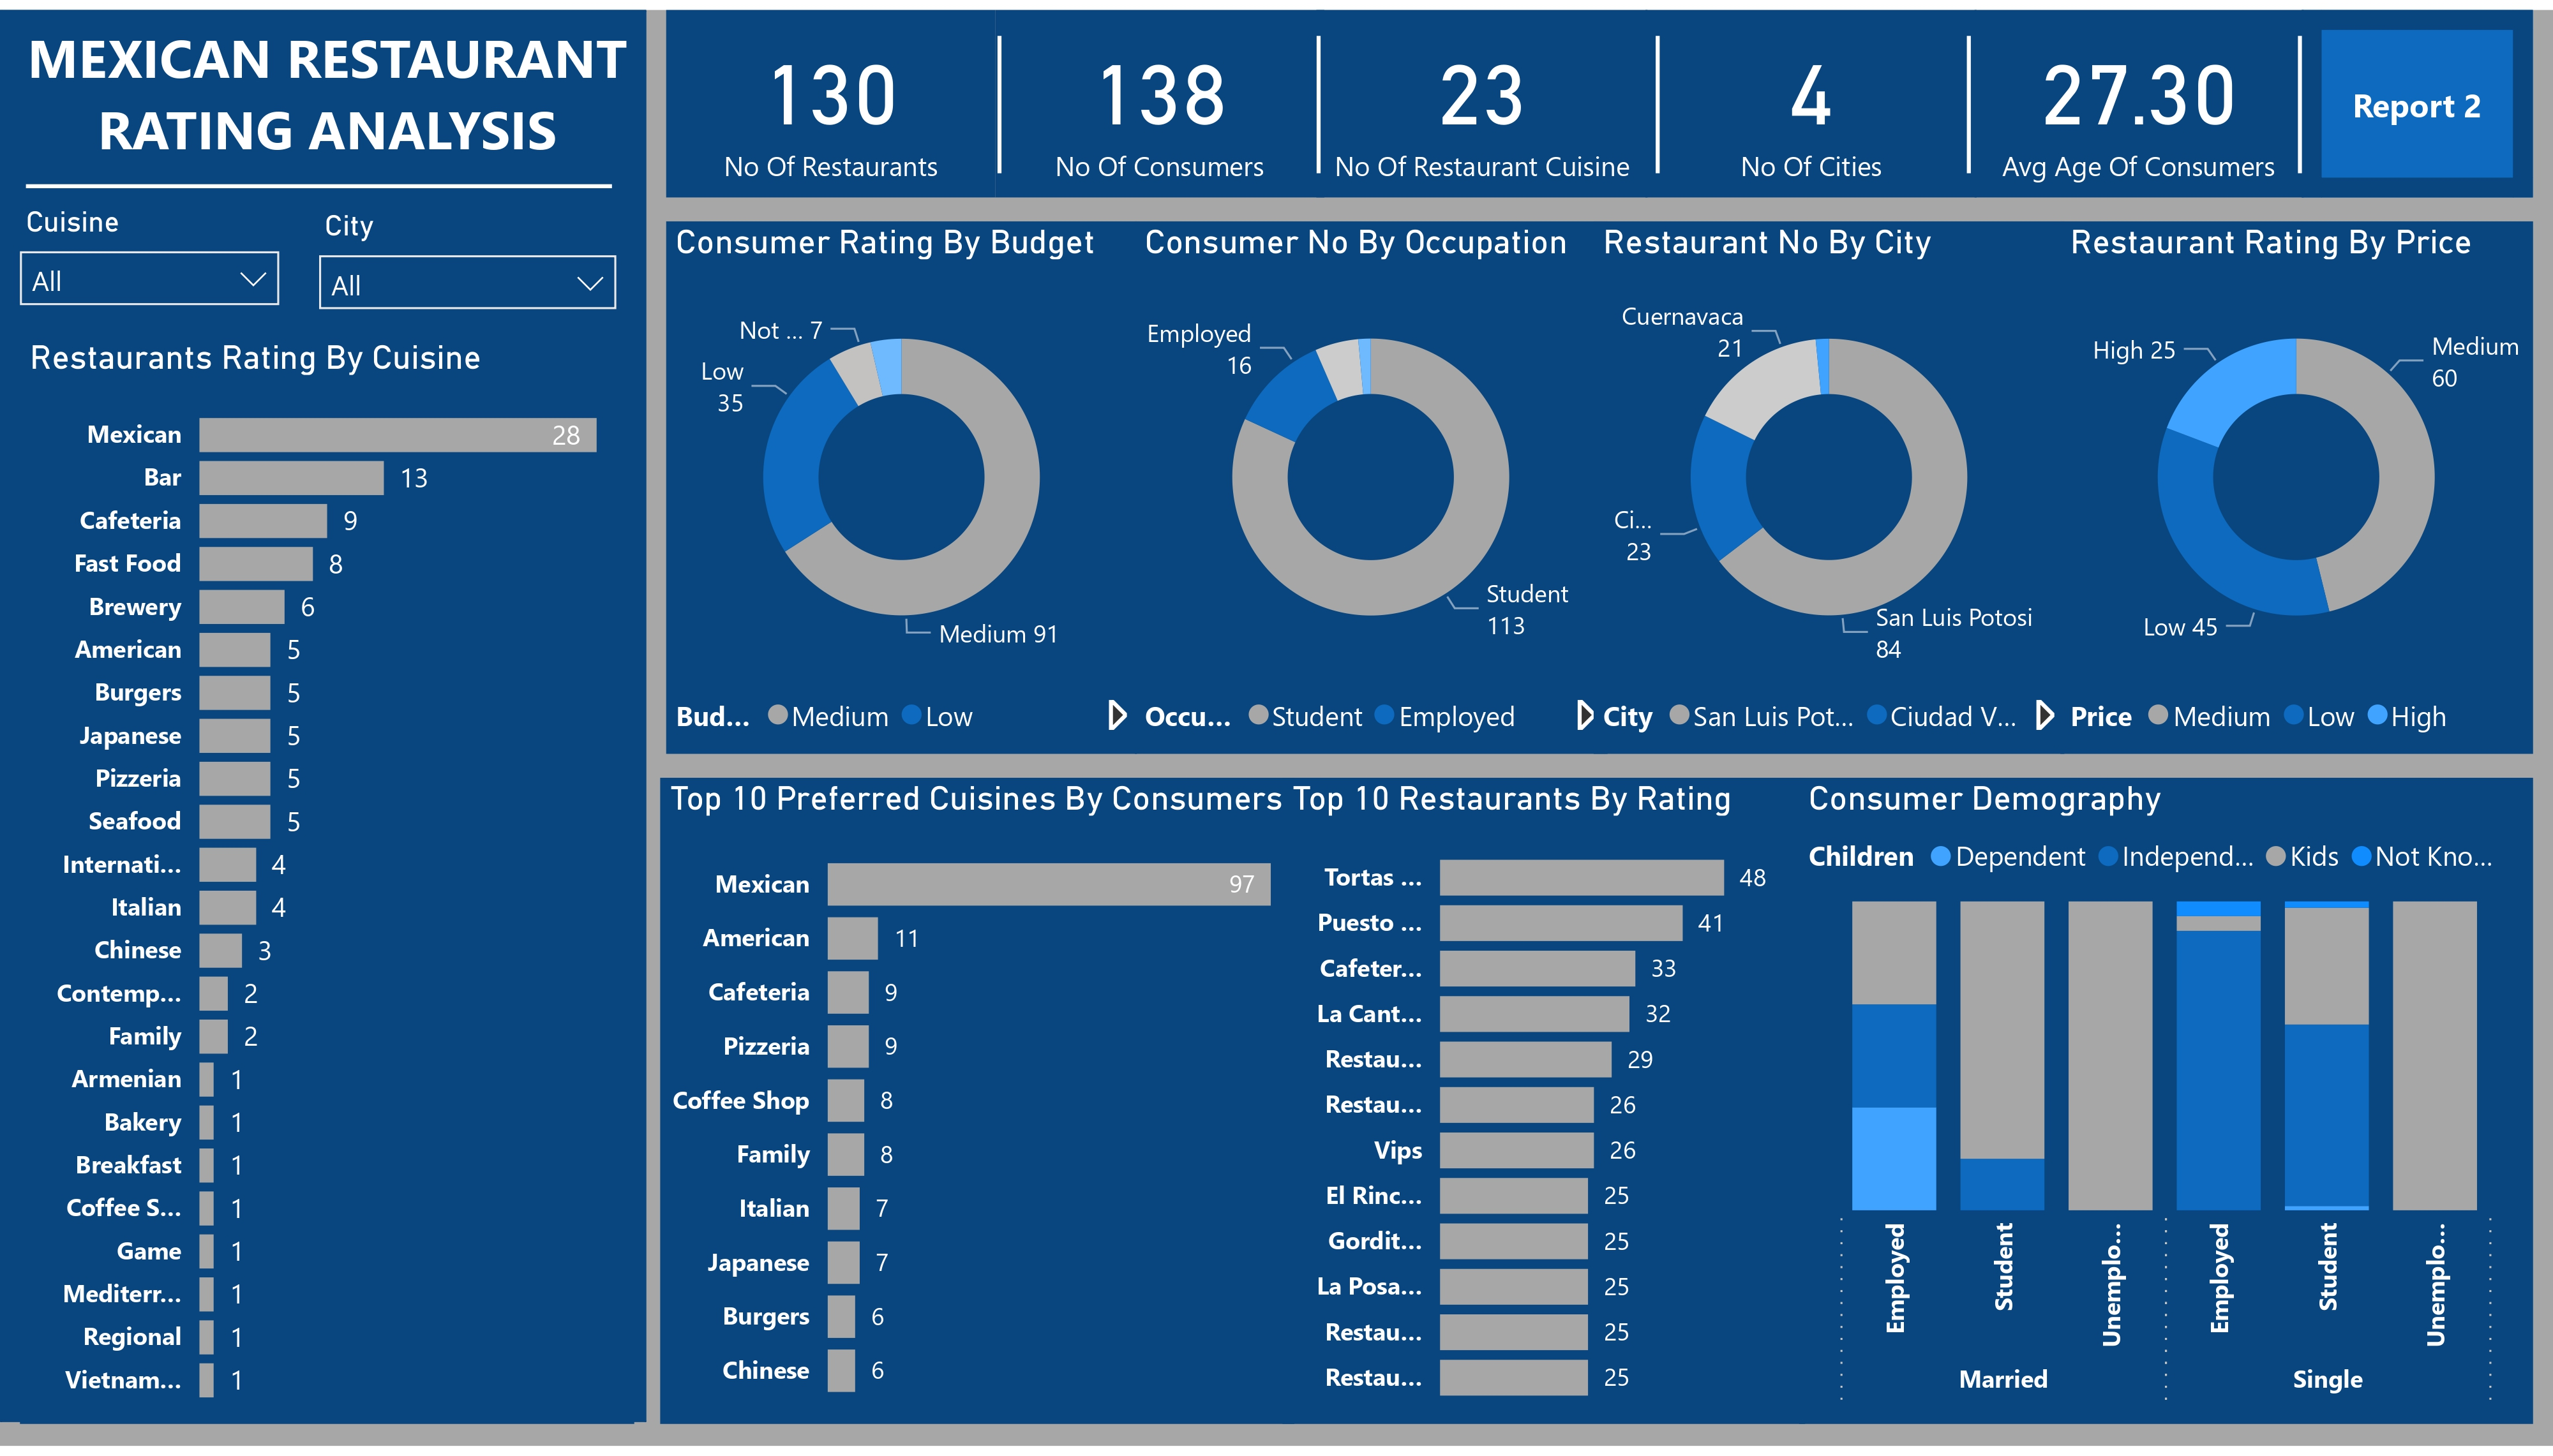

What the dashboard file says about the page in this screenshot:
{"tool":"powerbi","page":{"name":"REPORT 1","canvas":[1280,720],"ordinal":0},"visuals":[{"type":"shape","box":[0,0,324.4,708.4],"z":0},{"type":"textbox","box":[7.3,0,314.2,98.9],"z":1000},{"type":"shape","box":[13.1,36.4,293.8,104.7],"z":2000},{"type":"card","fields":{"Values":["DAX.No Of Restaurants"]},"box":[333.8,0,165,93.9],"z":3000,"group":"g1"},{"type":"barChart","title":"Top 10 Preferred Cuisines By Consumers","fields":{"Category":["consumer_preferences.Preferred_Cuisine"],"Y":["CountNonNull(consumer_preferences.Consumer_ID)"]},"box":[330.9,384.7,318,324.2],"z":3000},{"type":"card","fields":{"Values":["DAX.No Of Consumers"]},"box":[498.9,0,164.6,94.1],"z":4000,"group":"g1"},{"type":"barChart","title":"Restaurants Rating By   Cuisine","fields":{"Category":["restaurant_cuisines.Cuisine"],"Y":["CountNonNull(restaurant_cuisines.Restaurant_ID)"]},"box":[10.2,164.4,308.4,545.5],"z":4000},{"type":"card","fields":{"Values":["DAX.No Of Restaurant Cuisine"]},"box":[660.1,0,166.3,94.1],"z":5000,"group":"g1"},{"type":"donutChart","title":"Consumer Rating By Budget","fields":{"Series":["consumers.Budget"],"Y":["CountNonNull(consumers.Consumer_ID)"],"Category":["consumers.Budget"]},"box":[333.8,105.7,236,266.7],"z":5000},{"type":"card","fields":{"Values":["DAX.No Of Cities"]},"box":[824.7,0,166.3,94.1],"z":6000,"group":"g1"},{"type":"donutChart","title":"Restaurant Rating By Price","fields":{"Category":["restaurants.Price"],"Y":["DAX.No Of Restaurants"]},"box":[1033.4,105.7,236.5,266.7],"z":6000},{"type":"card","fields":{"Values":["DAX.Avg Age Of Consumers"]},"box":[989.4,0,164.6,94.1],"z":7000,"group":"g1"},{"type":"columnChart","title":"Consumers  By Marital Status & Occupation","fields":{"Category":["consumers.Marital_Status","consumers.Occupation"],"Y":["CountNonNull(consumers.Consumer_ID)"]},"box":[908.8,384.7,361.2,324.2],"z":7000},{"type":"shape","box":[465.3,13.4,72.2,68.9],"z":8000,"group":"g1"},{"type":"donutChart","title":"Consumer No By Occupation","fields":{"Y":["CountNonNull(consumers.Consumer_ID)"],"Category":["consumers.Occupation"]},"box":[568.7,105.7,236.5,266.7],"z":8000},{"type":"shape","box":[624.8,13.4,72.2,68.9],"z":9000,"group":"g1"},{"type":"donutChart","title":"Restaurant No By City","fields":{"Category":["restaurants.City"],"Y":["CountNonNull(restaurants.Restaurant_ID)"]},"box":[798.5,105.7,236,266.7],"z":9000},{"type":"shape","box":[794.5,13.4,72.2,68.9],"z":10000,"group":"g1"},{"type":"barChart","title":"   Top 10 Restaurants By Rating","fields":{"Category":["restaurants.Name"],"Y":["Sum(ratings.Overall_Rating)"]},"box":[643.4,384.7,270,324.2],"z":10000},{"type":"shape","box":[950.7,13.4,72.2,68.9],"z":11000,"group":"g1"},{"type":"slicer","fields":{"Values":["restaurant_cuisines.Cuisine"]},"box":[0,93.1,149.8,68.4],"z":11000},{"type":"slicer","fields":{"Values":["restaurants.City"]},"box":[150.2,93.5,168.7,68],"z":12000},{"type":"actionButton","box":[1154,0,115.9,94.1],"z":13000},{"type":"group","id":"g1","title":"Group 1","box":[333.8,0,855.5,94.1],"z":14000},{"type":"shape","box":[1117,13.4,72.2,68.9],"z":21002,"group":"g1"}]}

Visuals, with their boxes in screenshot pixels (x1, y1, x2, y2), scaled from the page's 1280x720 canvas onto the 2553x1456 screenshot:
shape: BBox(0, 0, 647, 1432)
textbox: BBox(15, 0, 641, 200)
shape: BBox(26, 73, 612, 285)
card - DAX.No Of Restaurants: BBox(666, 0, 995, 190)
"Top 10 Preferred Cuisines By Consumers" barChart: BBox(660, 778, 1294, 1434)
card - DAX.No Of Consumers: BBox(995, 0, 1323, 190)
"Restaurants Rating By   Cuisine" barChart: BBox(20, 332, 636, 1436)
card - DAX.No Of Restaurant Cuisine: BBox(1317, 0, 1649, 190)
"Consumer Rating By Budget" donutChart: BBox(666, 214, 1137, 753)
card - DAX.No Of Cities: BBox(1645, 0, 1977, 190)
"Restaurant Rating By Price" donutChart: BBox(2061, 214, 2533, 753)
card - DAX.Avg Age Of Consumers: BBox(1973, 0, 2302, 190)
"Consumers  By Marital Status & Occupation" columnChart: BBox(1813, 778, 2533, 1434)
shape: BBox(928, 27, 1072, 167)
"Consumer No By Occupation" donutChart: BBox(1134, 214, 1606, 753)
shape: BBox(1246, 27, 1390, 167)
"Restaurant No By City" donutChart: BBox(1592, 214, 2063, 753)
shape: BBox(1585, 27, 1728, 167)
"   Top 10 Restaurants By Rating" barChart: BBox(1284, 778, 1822, 1434)
shape: BBox(1896, 27, 2040, 167)
slicer - restaurant_cuisines.Cuisine: BBox(0, 188, 299, 327)
slicer - restaurants.City: BBox(299, 189, 636, 327)
actionButton: BBox(2302, 0, 2533, 190)
"Group 1" group: BBox(666, 0, 2372, 190)
shape: BBox(2228, 27, 2372, 167)
